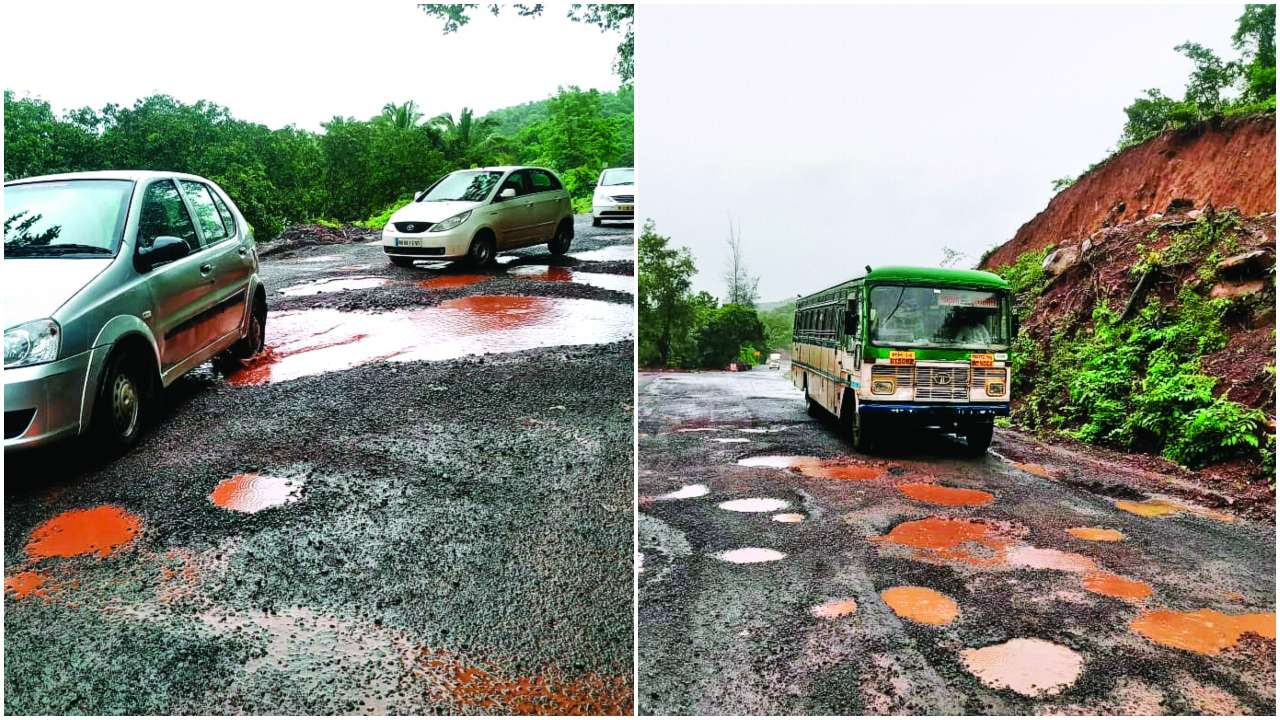pothole: (267, 260, 605, 399), (876, 502, 1075, 593), (1132, 593, 1279, 696), (30, 472, 156, 582), (205, 441, 316, 544), (933, 647, 1093, 699), (1088, 474, 1202, 528), (714, 536, 791, 572)
